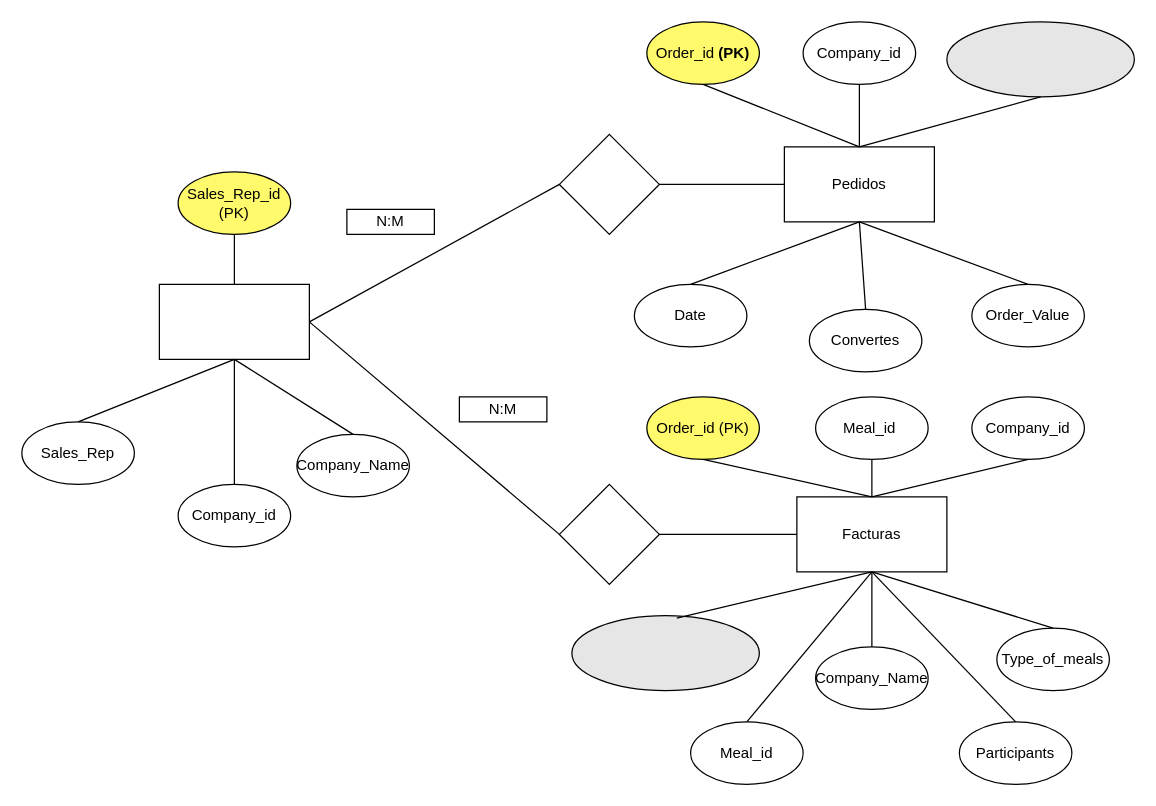
The diagram is 1156 pixels wide and 806 high, and some of its shapes have lost their labels. Each missing label, with the centre of its shape:
FAC_VEND (PK): pixel 665 652
Hacen: pixel 608 533
PED_VEND (PK): pixel 1040 59
Toman: pixel 608 183
Vendedores: pixel 233 321
